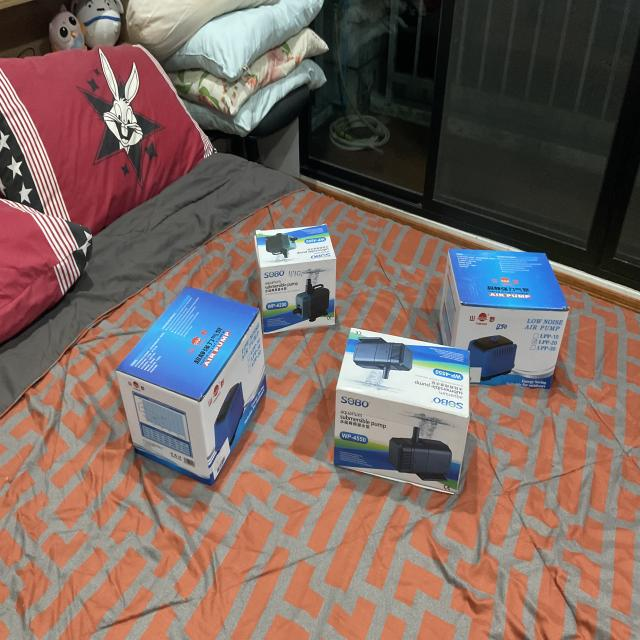SOBO_WP_4200: (335, 320, 478, 513), (254, 215, 351, 344)
YAMANO_LPP_20: (115, 273, 272, 492), (426, 230, 578, 393)
